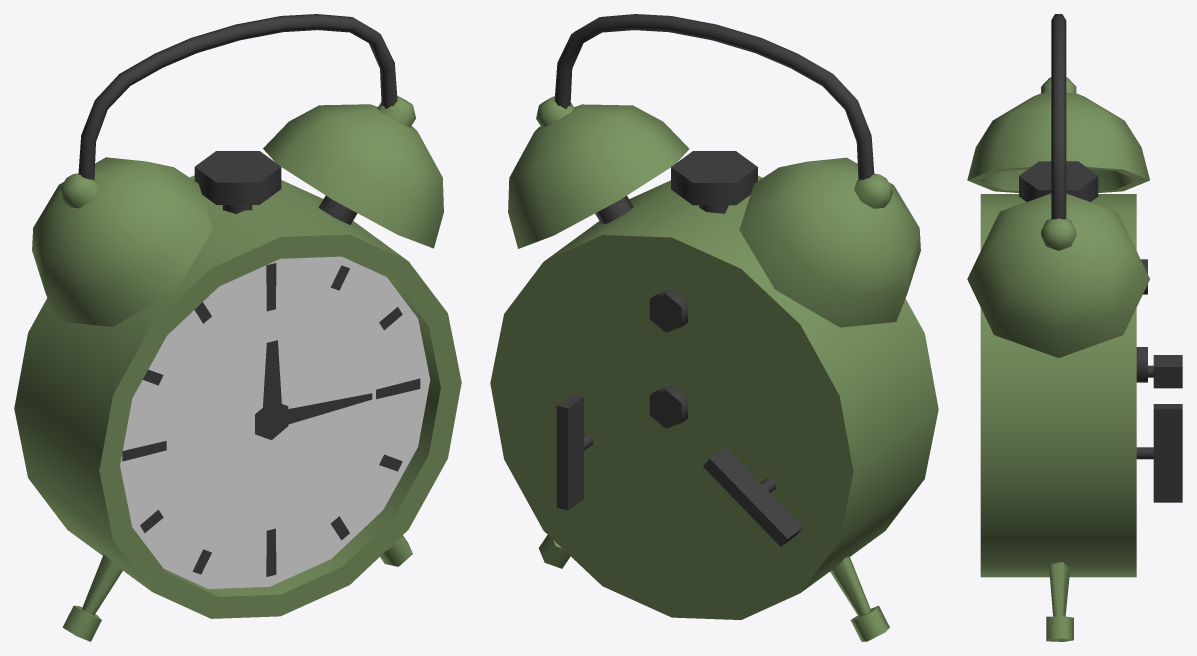
File: AlarmClock_01.fbx
3 views of the same model, side by side, from view 1: azimuth 30°, elevation 25°; view 2: azimuth 150°, elevation 25°; view 3: azimuth 270°, elevation 25° (orthographic). The views are drawn at different scales.
Parts seen in each view (by area): view 1: AlarmClock_01; view 2: AlarmClock_01; view 3: AlarmClock_01.
Boxes of the visible parts, bbox=[...] form: AlarmClock_01: bbox=[14, 14, 461, 641]; AlarmClock_01: bbox=[490, 14, 938, 641]; AlarmClock_01: bbox=[967, 14, 1182, 641].
Bounding box in the file's own units: 0.1963 × 0.2781 × 0.1029.
